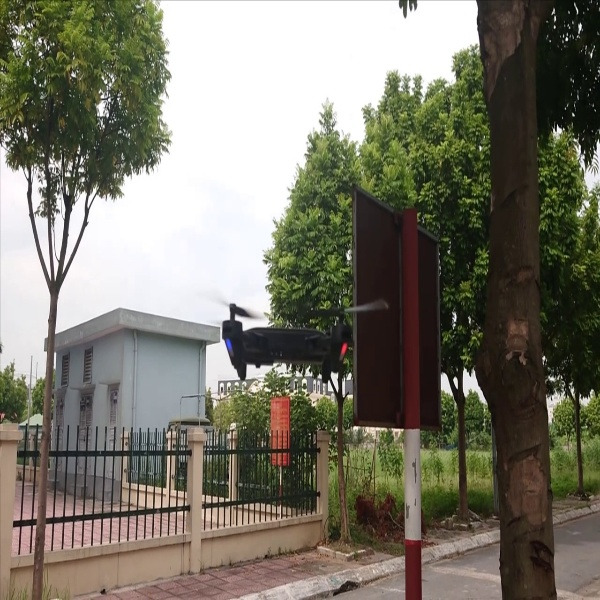drone: (199, 286, 391, 387)
